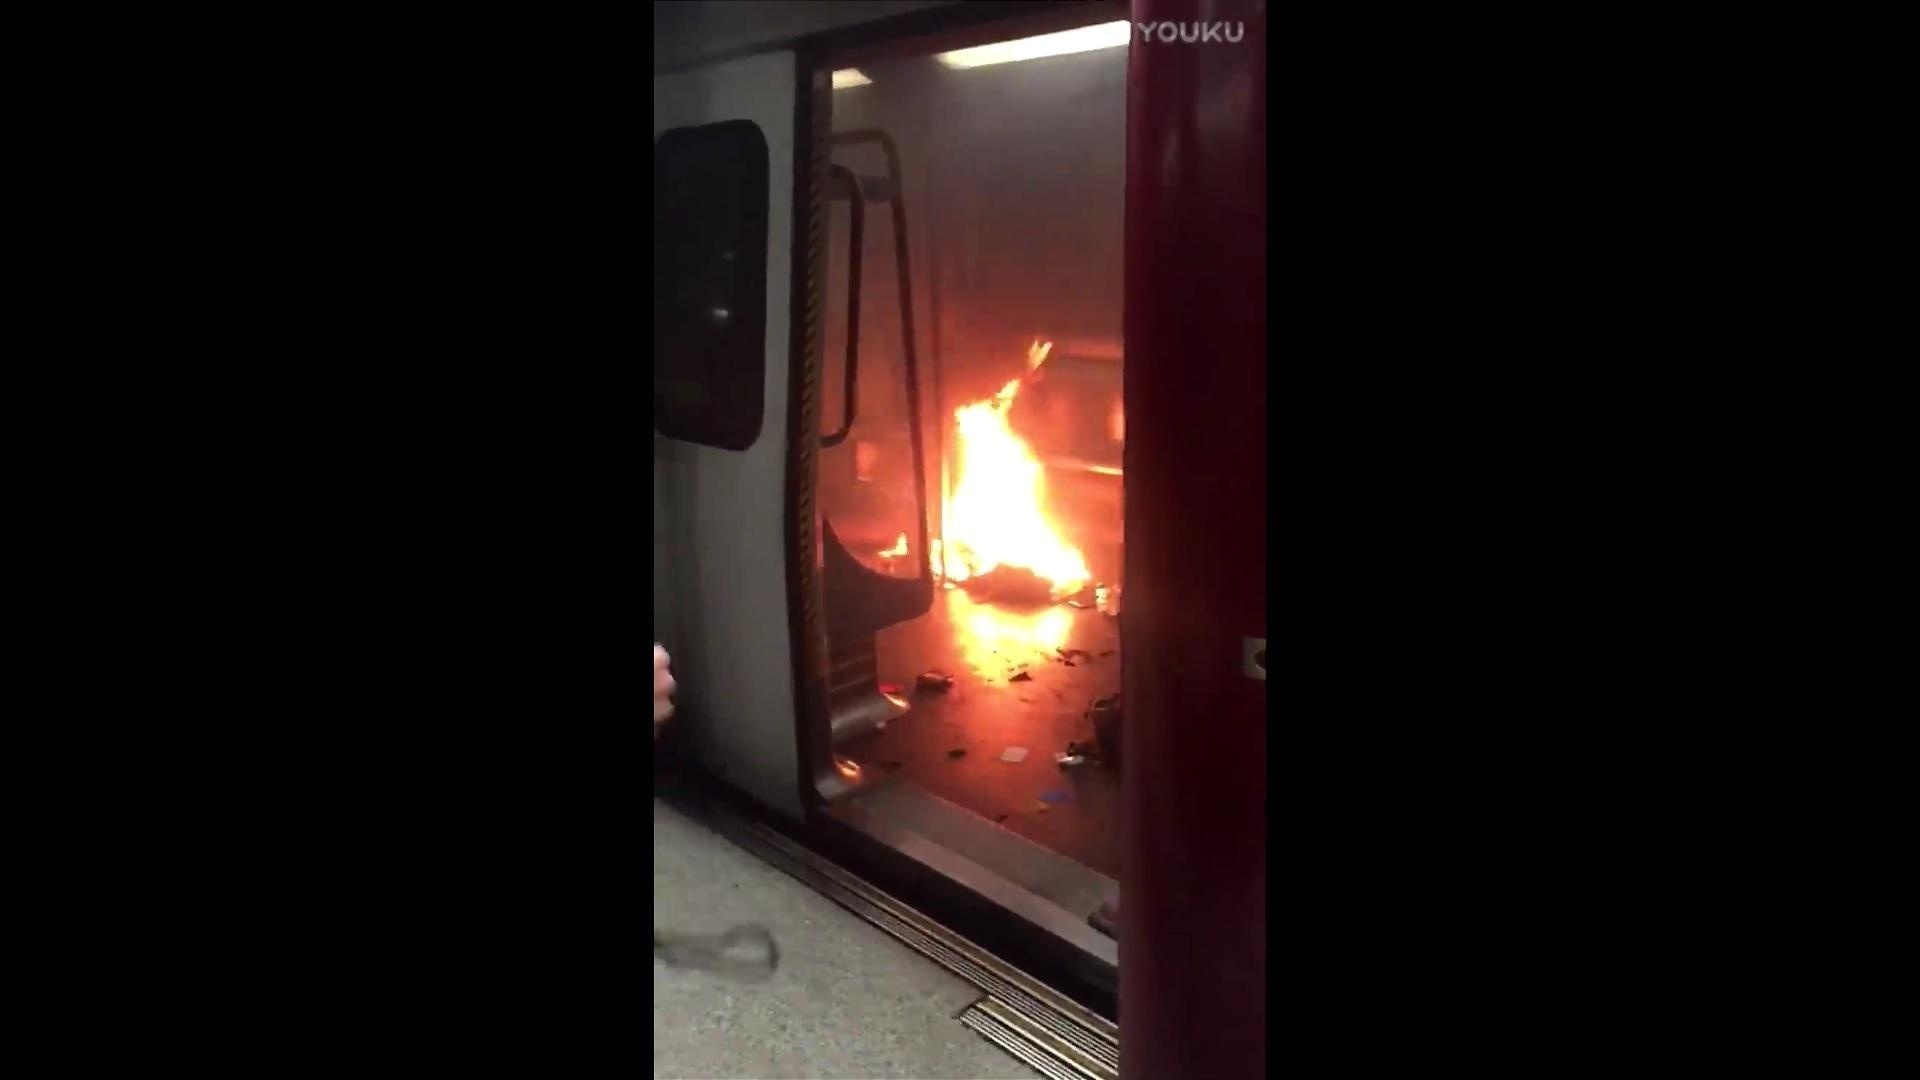fire: (928, 340, 1097, 670)
